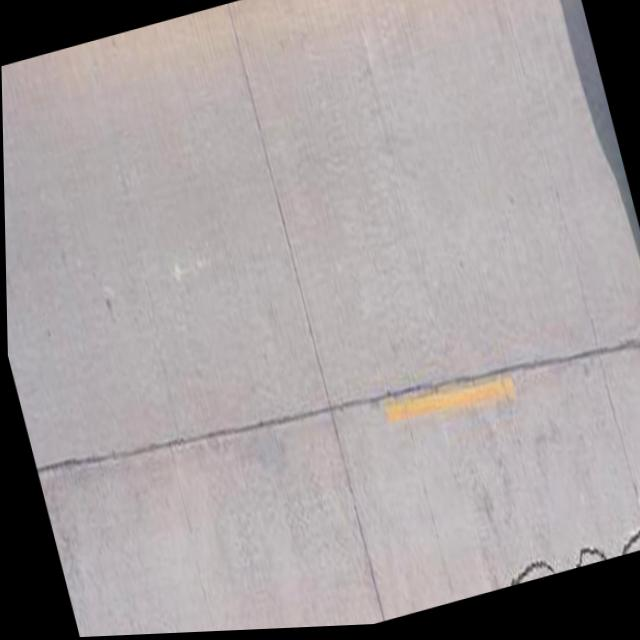Crack: (470, 505, 640, 597)
